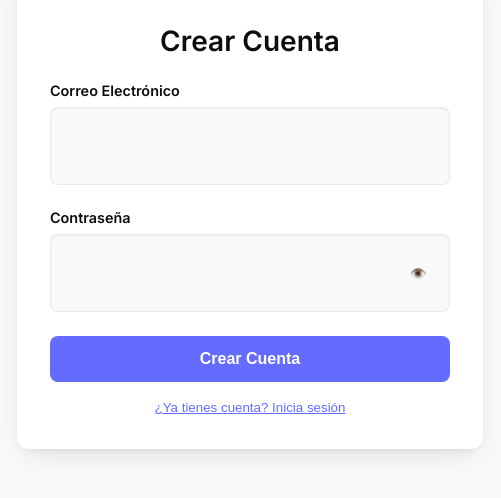
AuthForm Component › validates password length on blur
// Short password
Type "123" into the password field labelled "Contraseña" at (250, 273), box [50,234,450,312]
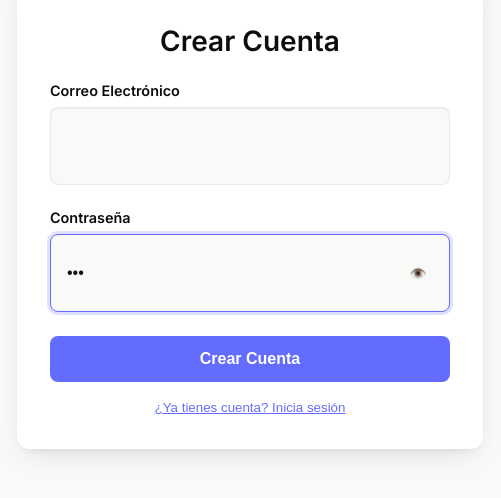
Press Tab
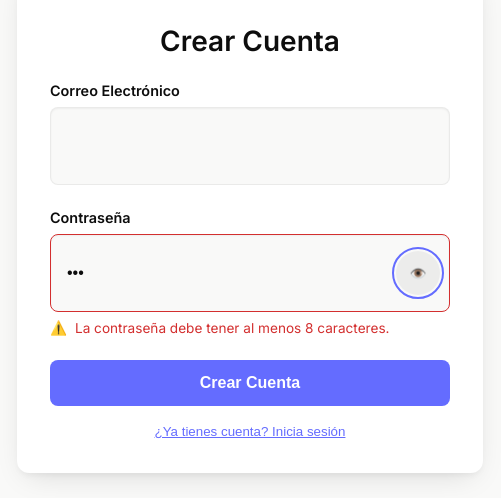
Expected: the text "⚠️ La contraseña debe tener al menos 8 caracteres." is shown, [50,320,390,336]
